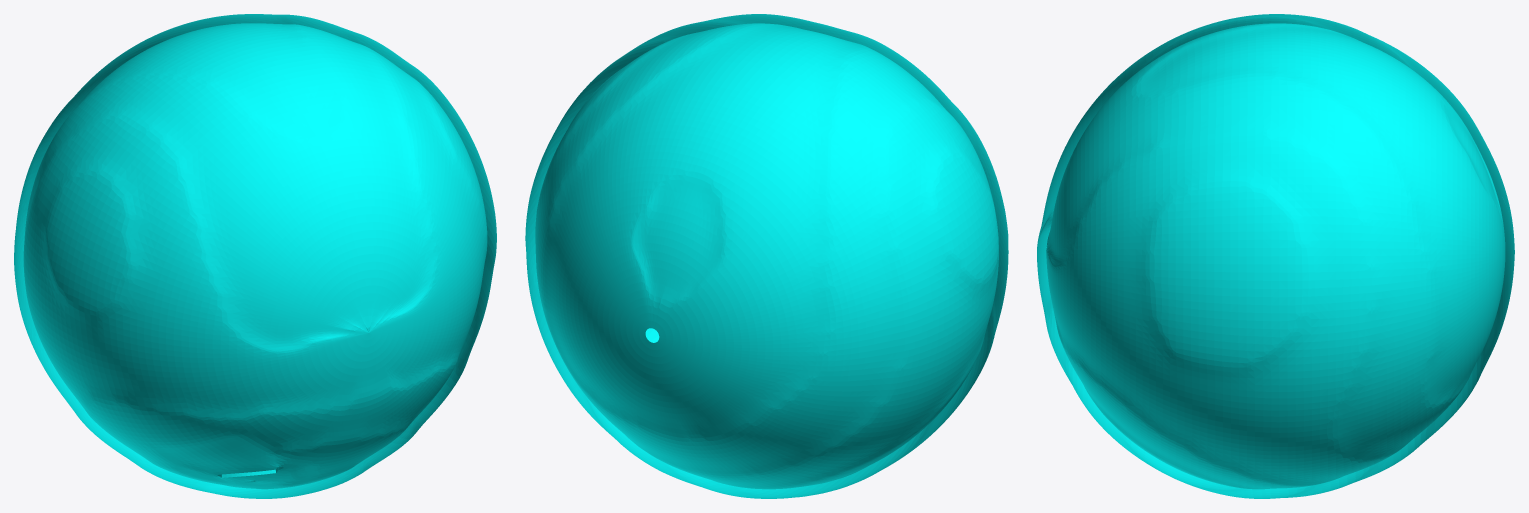
3 renders of one model, left to right at view 1: azimuth 30°, elevation 25°; view 2: azimuth 150°, elevation 25°; view 3: azimuth 270°, elevation 25°, orthographic.
Parts seen in each view (by area): view 1: Renderer Node; view 2: Renderer Node; view 3: Renderer Node.
Part boxes in pixels (x1,y1,x2,y2): Renderer Node: [14, 14, 496, 498]; Renderer Node: [525, 14, 1008, 498]; Renderer Node: [1037, 14, 1514, 498].
Bounding box in the file's own units: 2.95e+14 × 2.93e+14 × 2.88e+14.
